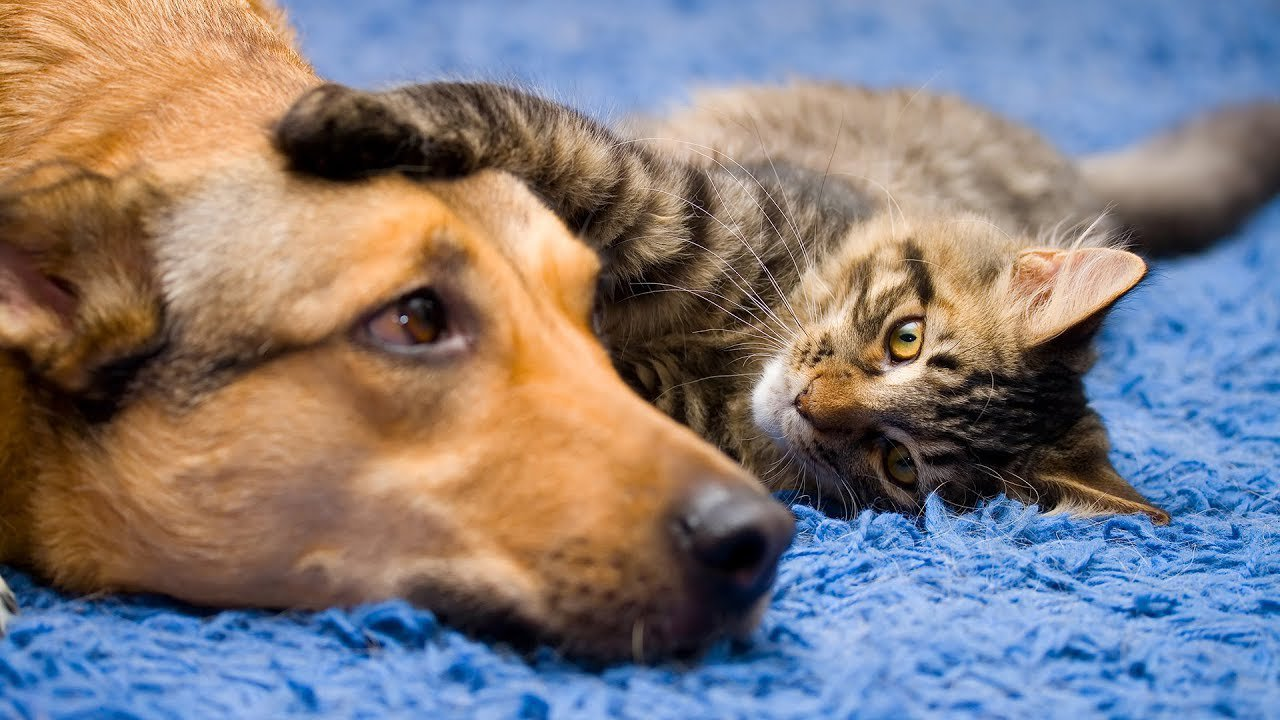cat: (541, 12, 1276, 565)
dog: (66, 60, 808, 666)
